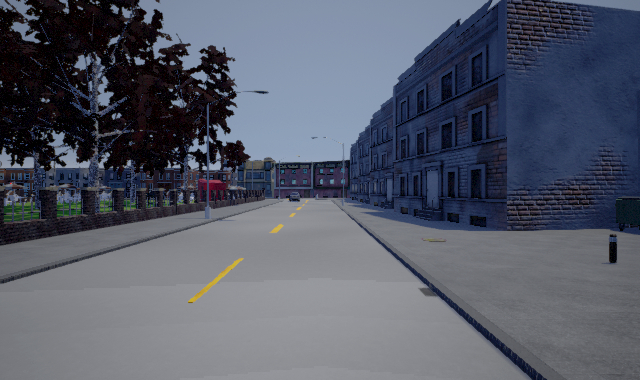vehicle: (288, 191, 301, 202)
